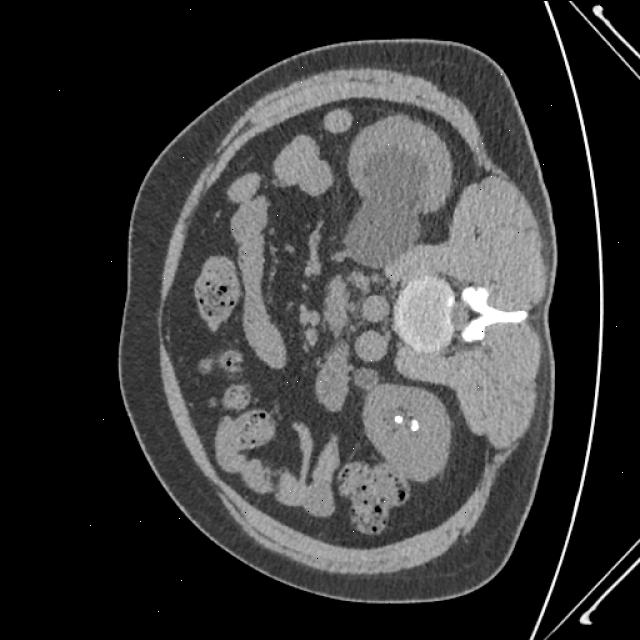kidneystone: (411, 419, 419, 430), (394, 414, 403, 422)
